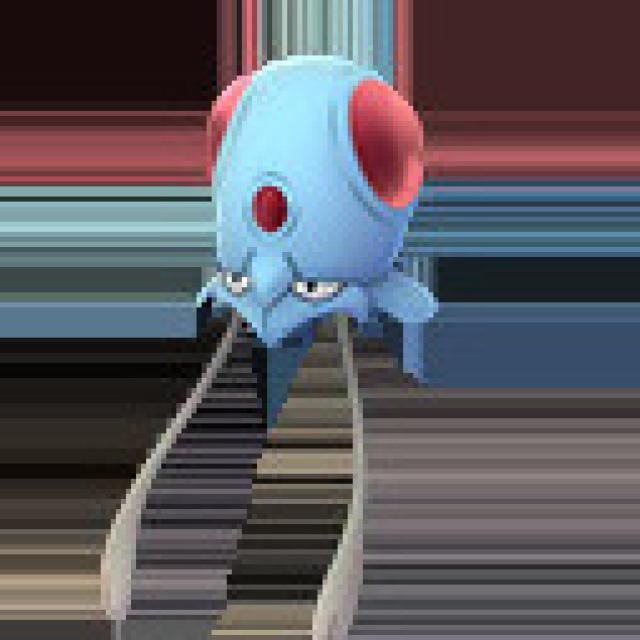Tentacool: (184, 55, 436, 445)
